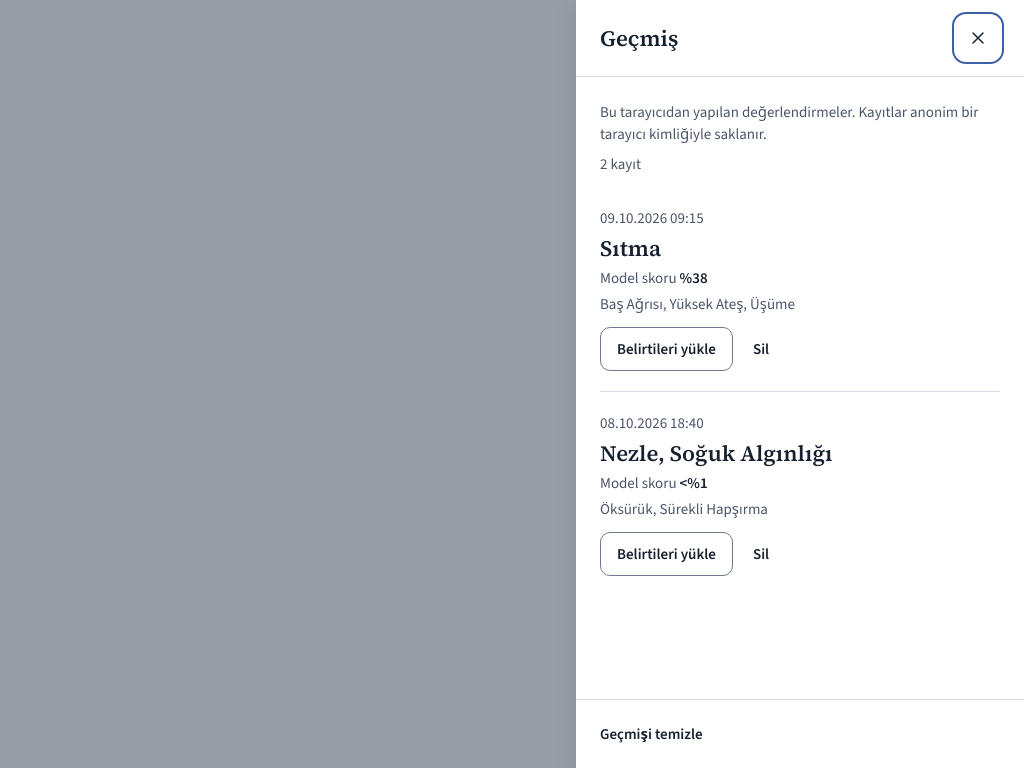
Test: HistoryDrawer › clears everything after confirmation
This screenshot has width=1024, height=768.
Check: the list named "Geçmiş değerlendirmeler" is shown, box [600,187,1000,596]
Click the button "Geçmişi temizle".
click(651, 734)  # box [588,712,715,756]
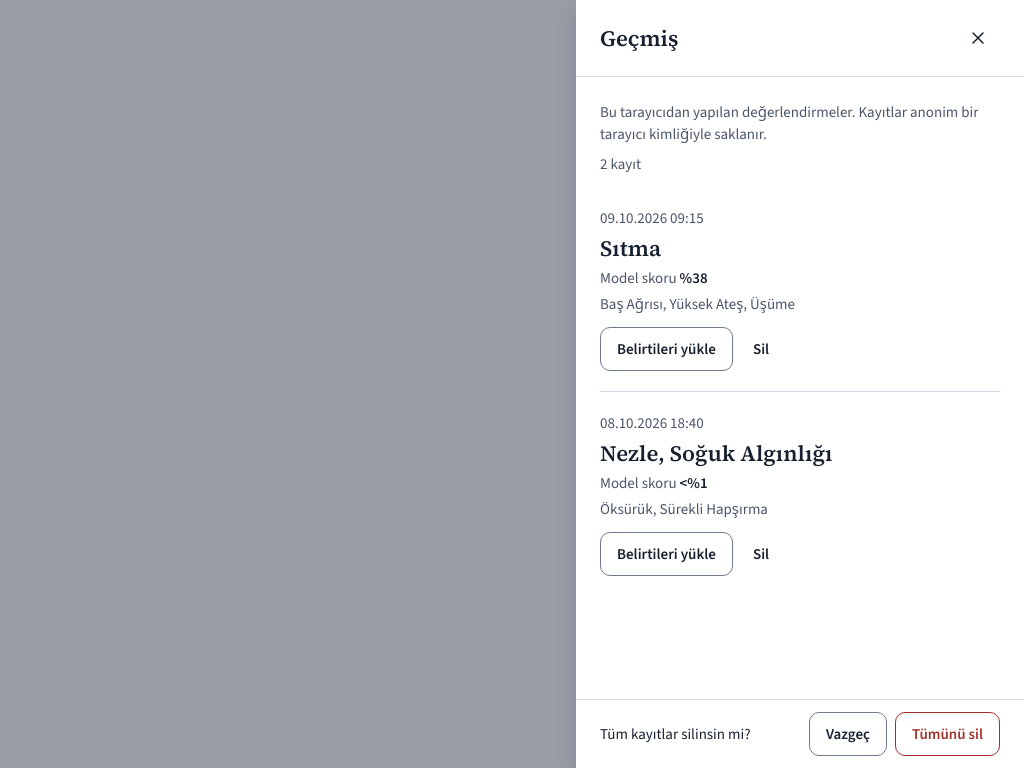
Check: the text "Tüm kayıtlar silinsin mi?" is shown, box [600,723,750,745]
Click the button "Tümünü sil".
click(947, 734)  # box [895,712,1000,756]
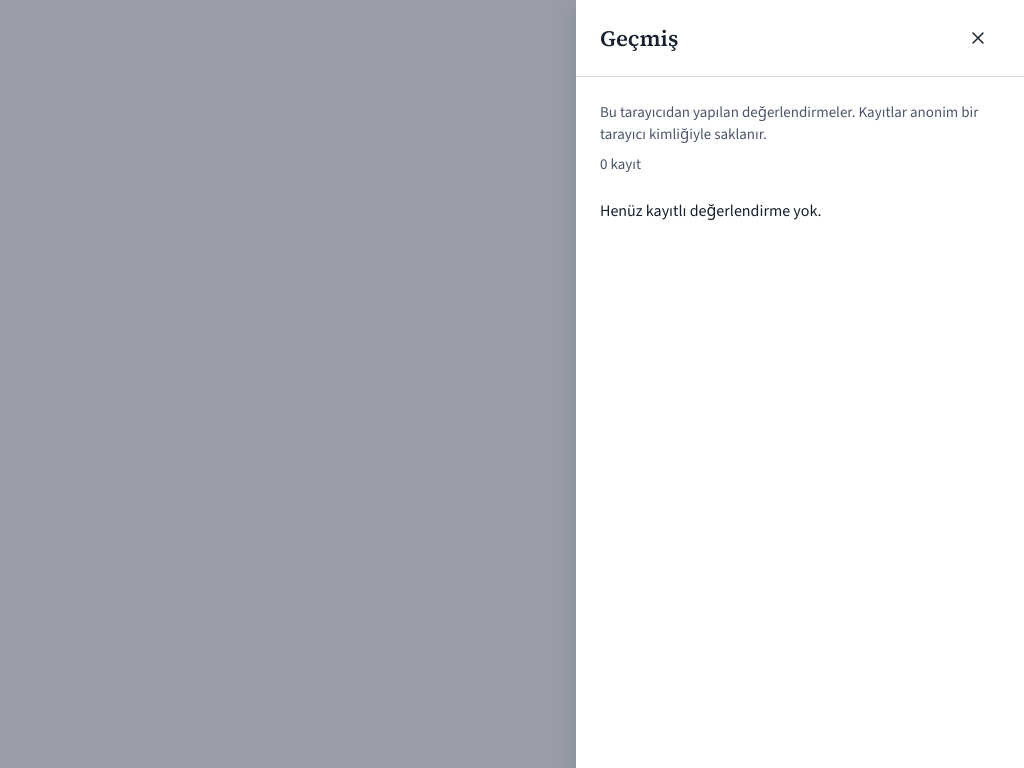
Check: the text "Henüz kayıtlı değerlendirme yok." is shown, box [600,200,822,221]
